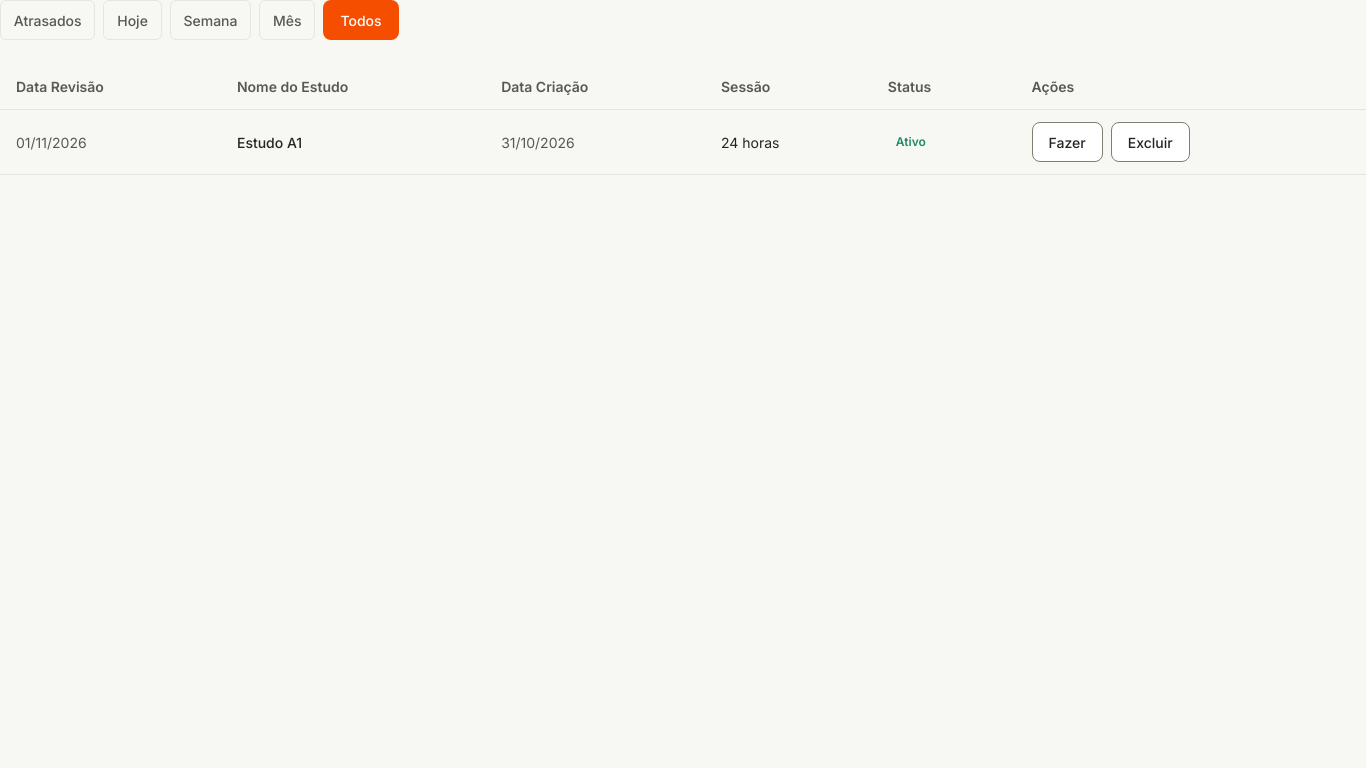
ScheduleList › Cancelar fecha a confirmação sem apagar
The image size is (1366, 768).
Click the button with aria-label "Excluir agendamento de Estudo A1" at (1150, 142), box [1111,122,1190,162]
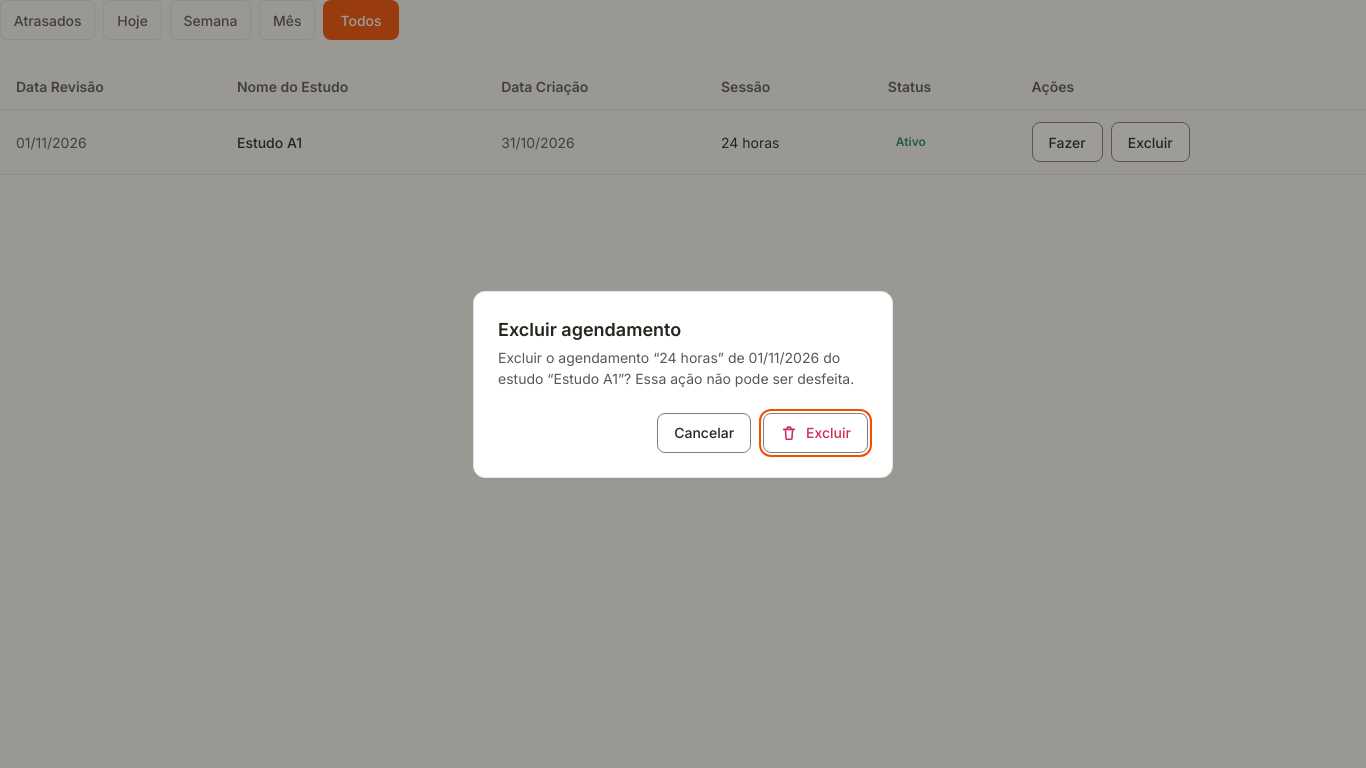
Click the button "Cancelar" at (704, 432), box [657,412,751,452]
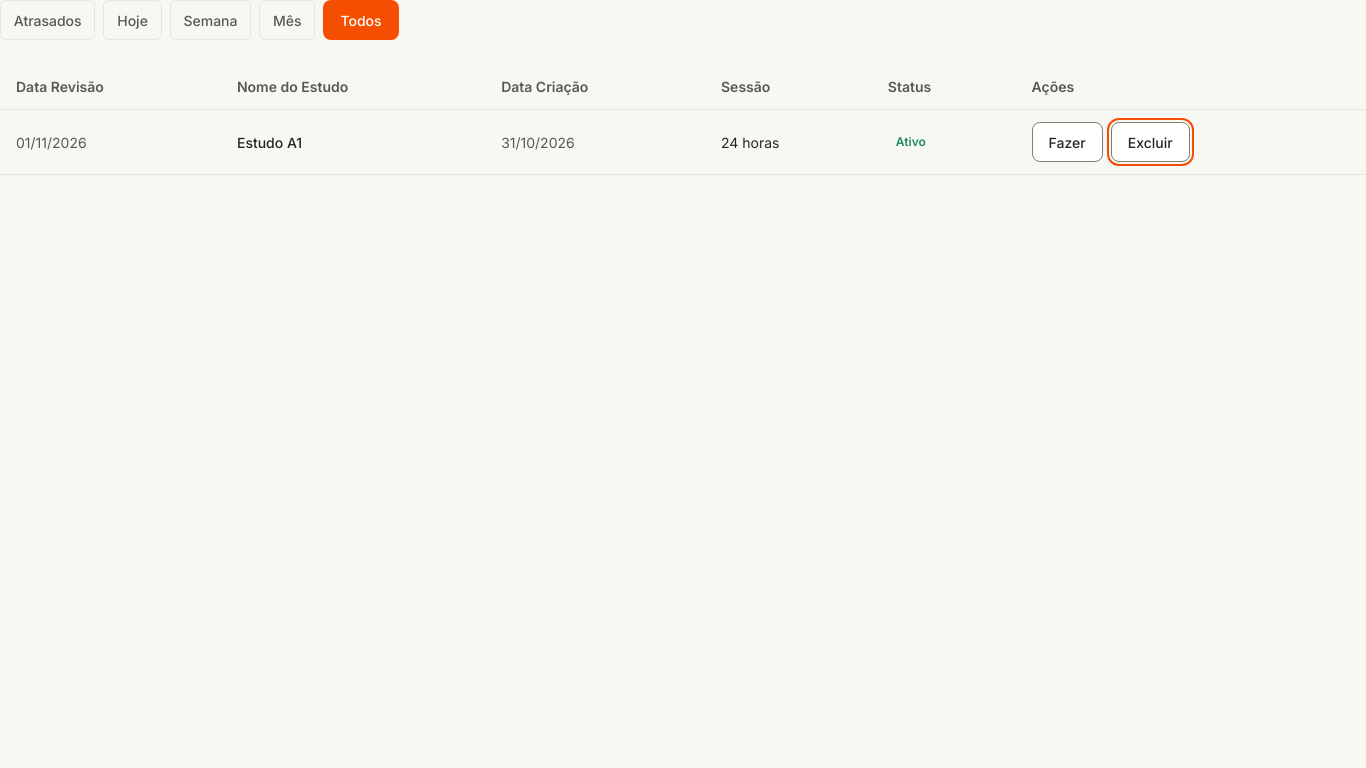
Expected: the dialog is gone
